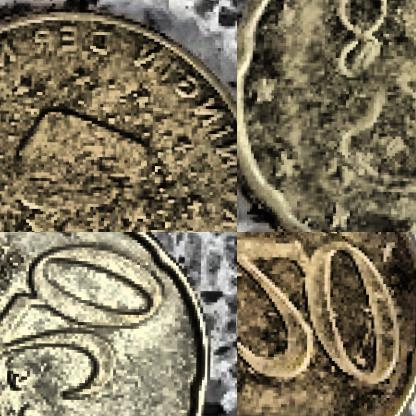coin: (0, 6, 236, 231), (237, 0, 415, 231), (0, 232, 208, 415), (237, 232, 415, 415)
